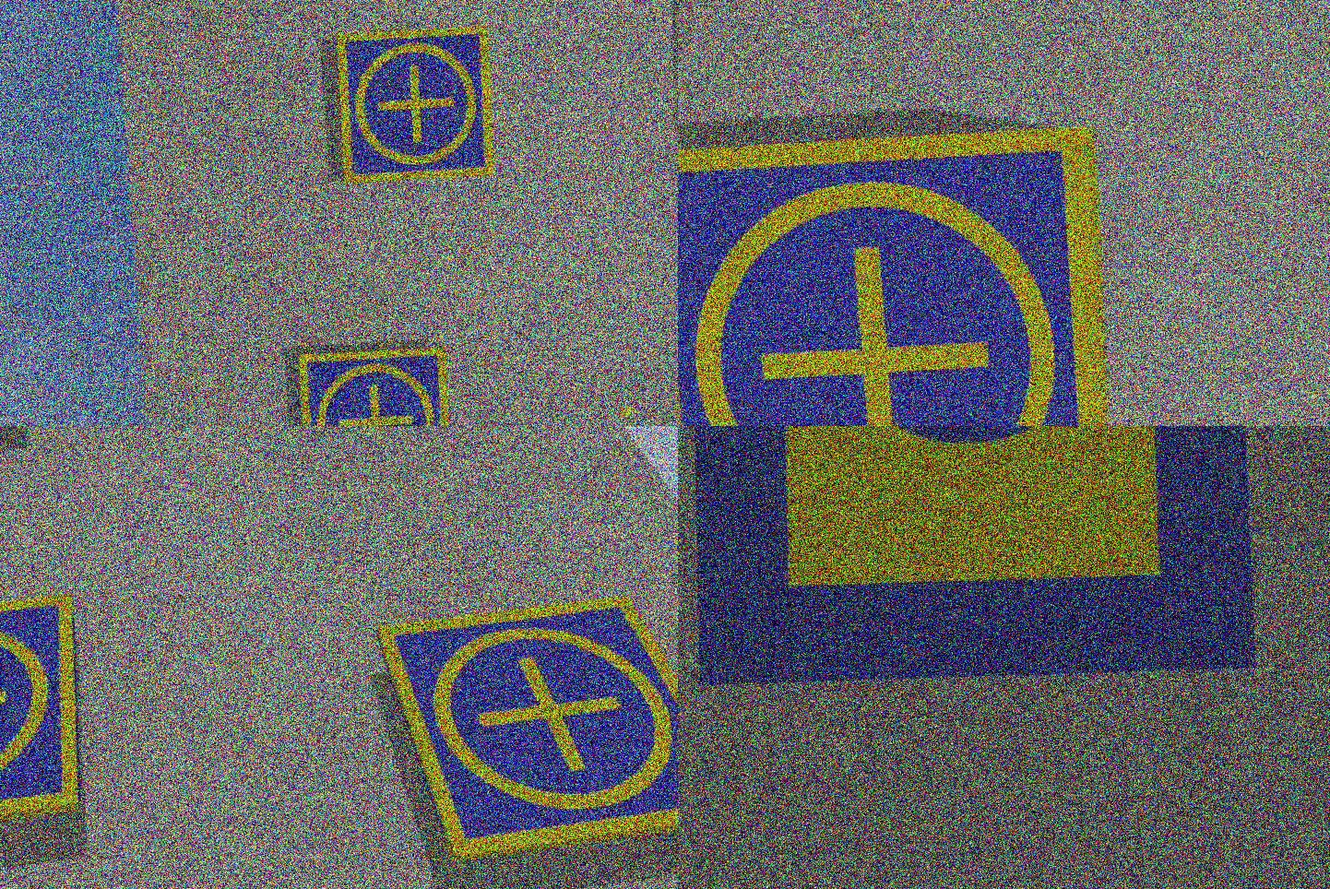large_base: (681, 426, 1258, 692)
small_base: (678, 122, 1111, 426), (378, 594, 678, 874), (333, 25, 497, 188), (1, 590, 89, 850), (297, 345, 453, 426)
